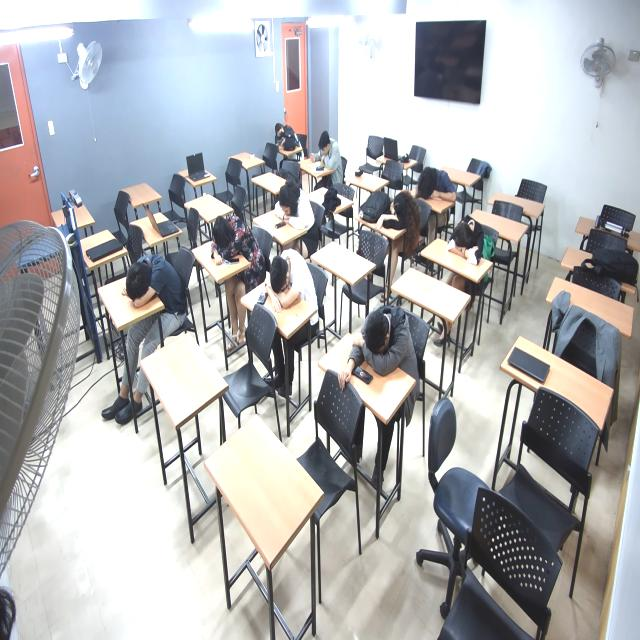sleep: (362, 301, 416, 377), (120, 250, 185, 309), (267, 245, 317, 316), (208, 212, 262, 272), (445, 213, 490, 271), (272, 180, 315, 236), (383, 190, 418, 234), (416, 163, 456, 201), (274, 119, 304, 161)
